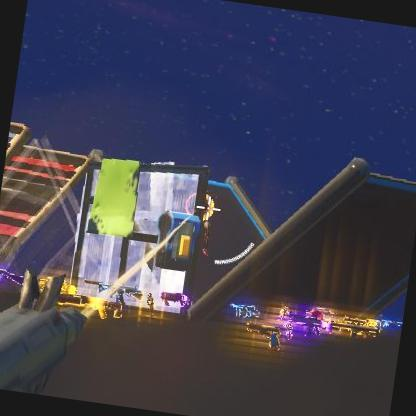person: (192, 194, 214, 241)
